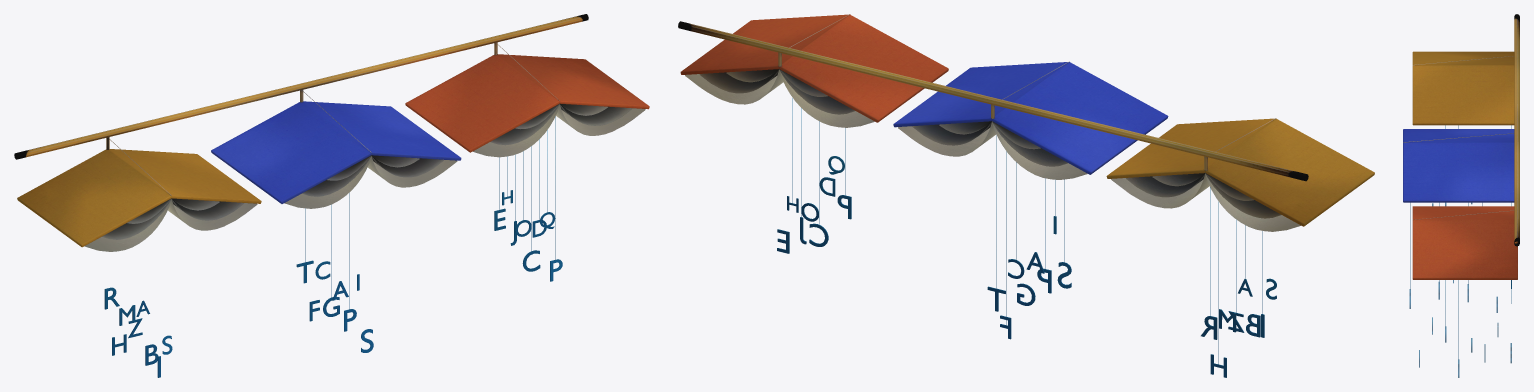
File: HangingBook_LOD1.glb
3 renders of one model, left to right at view 1: azimuth 30°, elevation 25°; view 2: azimuth 150°, elevation 25°; view 3: azimuth 270°, elevation 25°, orthographic. The views are drawn at different scales.
Visible parts, largest first — view 1: Hanging Books_PROCESSED.001_LOD1; view 2: Hanging Books_PROCESSED.001_LOD1; view 3: Hanging Books_PROCESSED.001_LOD1.
Boxes of the visible parts, box(x1,y1,x2,y2) form: Hanging Books_PROCESSED.001_LOD1: box(14, 14, 649, 377); Hanging Books_PROCESSED.001_LOD1: box(678, 14, 1374, 377); Hanging Books_PROCESSED.001_LOD1: box(1403, 14, 1519, 377).
Size of the model in its own units: 15.3 by 5.83 by 3.32.
1 material, 1 textured.
